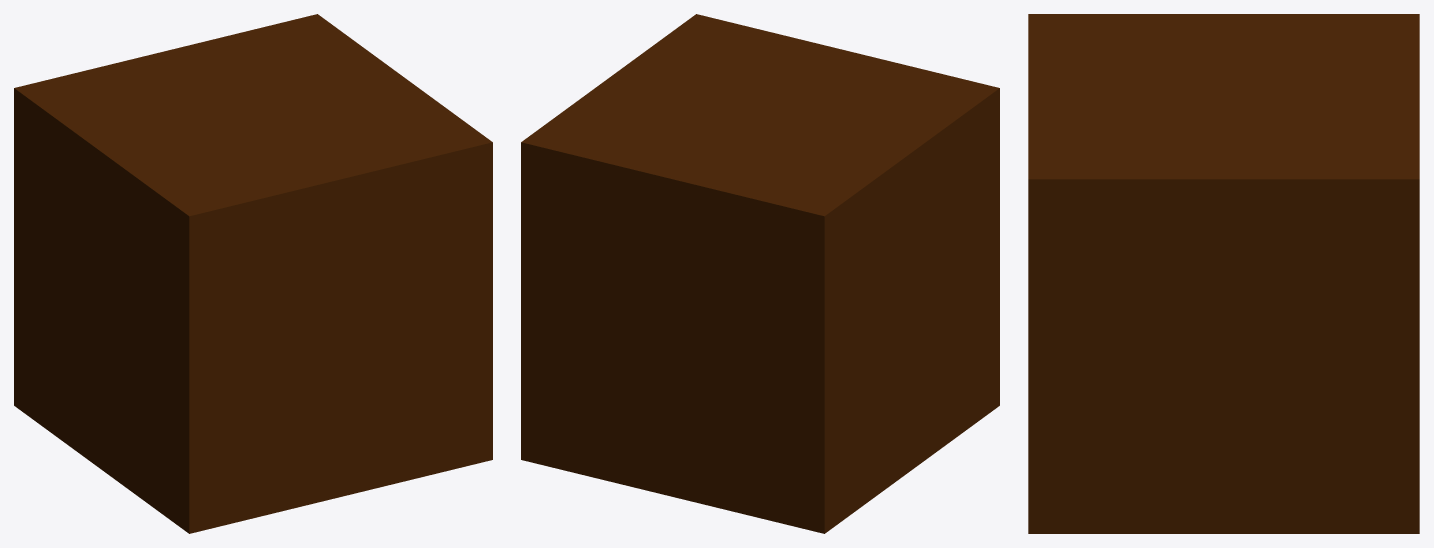
The model's file is brownCube.obj.
The picture shows the model from 3 angles, left to right: view 1: azimuth 30°, elevation 25°; view 2: azimuth 150°, elevation 25°; view 3: azimuth 270°, elevation 25°; orthographic projection. The views are drawn at different scales.
Bounding box in the file's own units: 1 × 1 × 1.
Materials: 1 (1 with a texture image).
